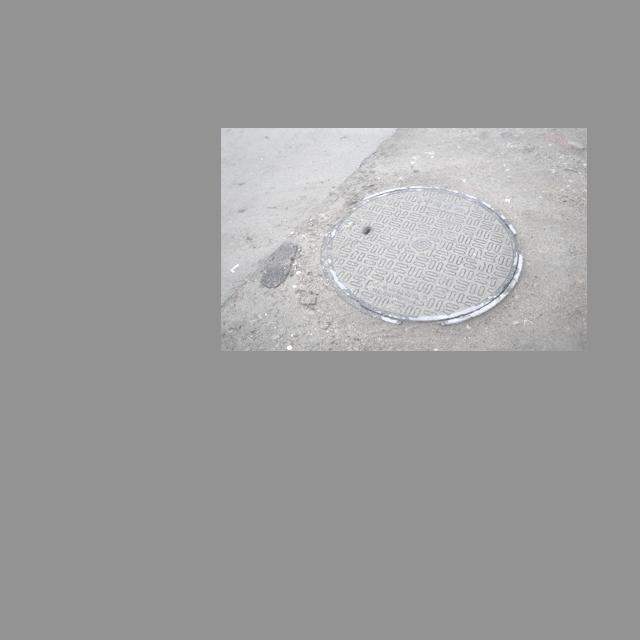good: (321, 185, 522, 325)
